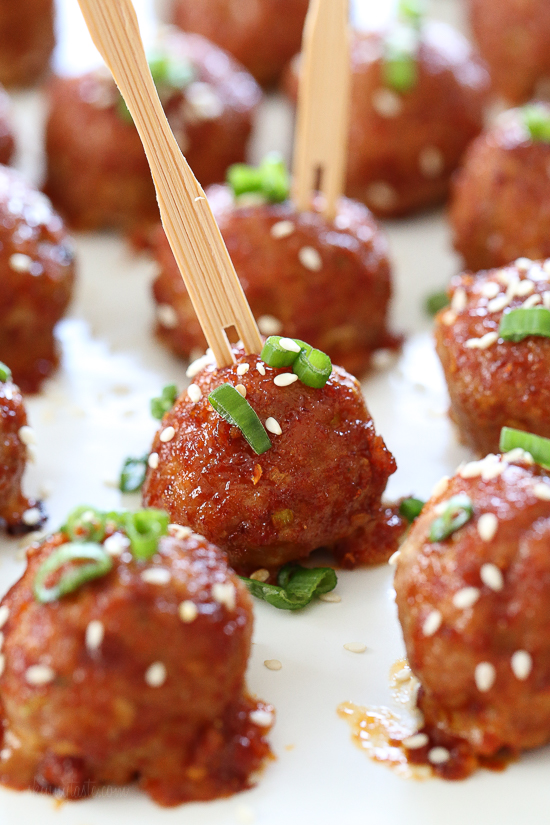meatballs: (1, 514, 254, 763), (150, 368, 394, 554), (396, 455, 550, 738), (431, 264, 550, 443)
